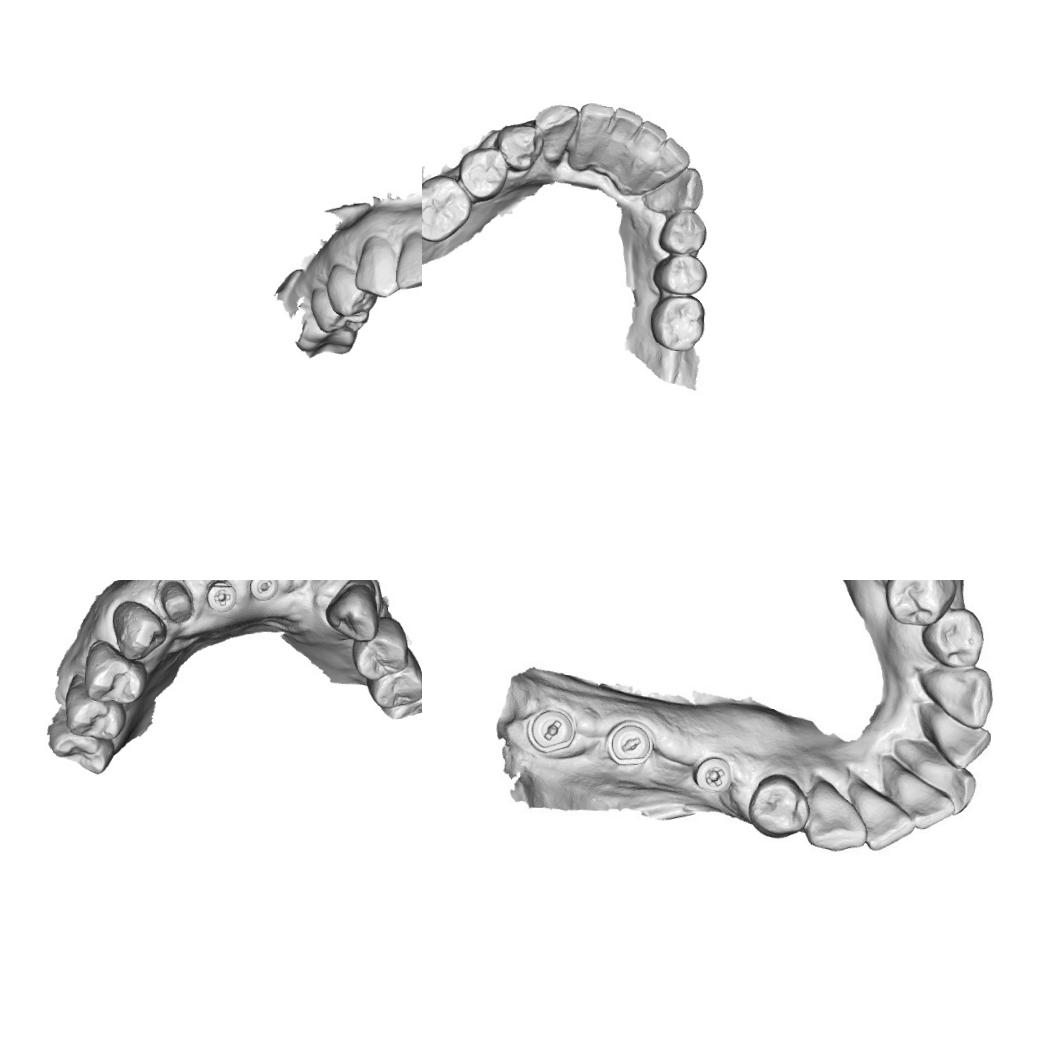canine: (914, 659, 998, 732), (799, 773, 868, 854), (108, 597, 169, 663), (322, 580, 382, 643), (640, 163, 706, 215), (352, 230, 401, 298), (531, 101, 578, 165)
crown: (154, 580, 199, 630)
implant_minus: (599, 709, 664, 780), (521, 698, 584, 765), (246, 580, 280, 602)
implant_plus: (682, 742, 741, 805), (203, 580, 239, 614)
incisor: (898, 740, 978, 816), (848, 772, 916, 852), (920, 700, 992, 766), (884, 770, 955, 832), (575, 100, 615, 155), (653, 134, 694, 180), (394, 228, 422, 294), (607, 105, 643, 153), (633, 118, 668, 160)
molar: (422, 171, 475, 245), (43, 722, 115, 776), (646, 292, 708, 354)
premolar: (81, 640, 150, 706), (918, 601, 986, 667), (748, 770, 810, 841), (60, 685, 130, 742), (322, 262, 386, 324), (350, 622, 410, 684), (364, 650, 422, 711), (881, 580, 953, 629), (456, 144, 510, 202), (650, 250, 710, 296), (493, 121, 545, 173), (656, 209, 708, 256), (307, 290, 335, 330)
